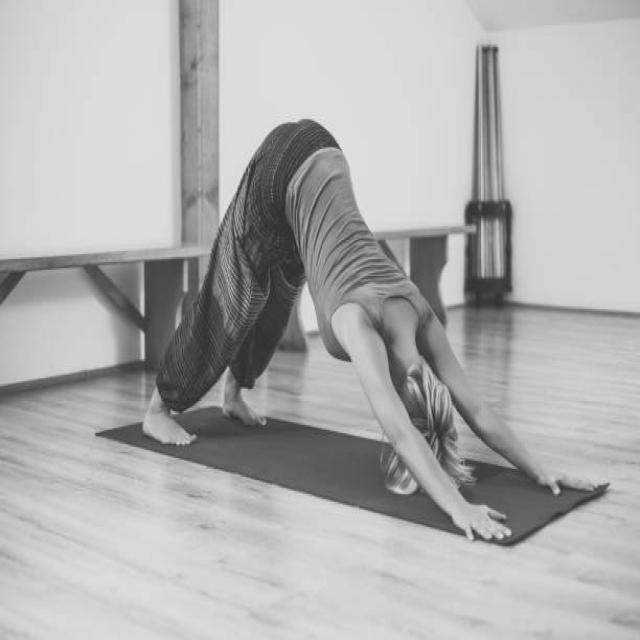Downward-Facing_Dog: (135, 109, 607, 548)
